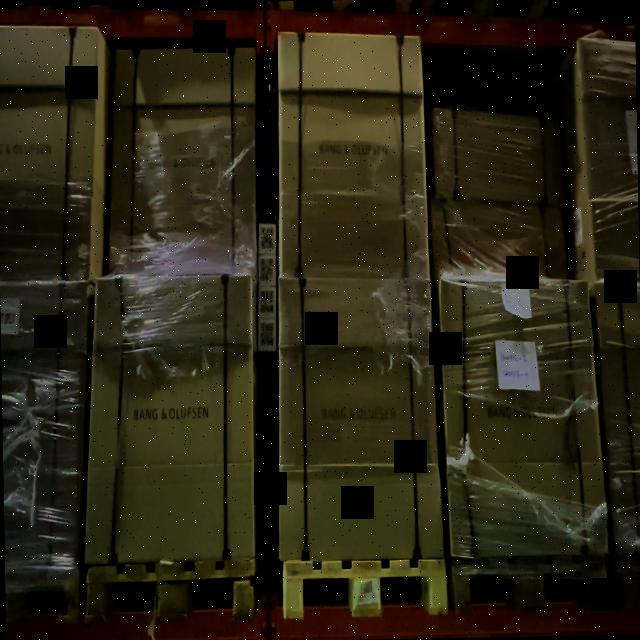box: (83, 274, 256, 567), (276, 278, 443, 565), (440, 278, 606, 558), (276, 33, 427, 280), (103, 44, 257, 278), (432, 103, 568, 209), (429, 197, 569, 280)
